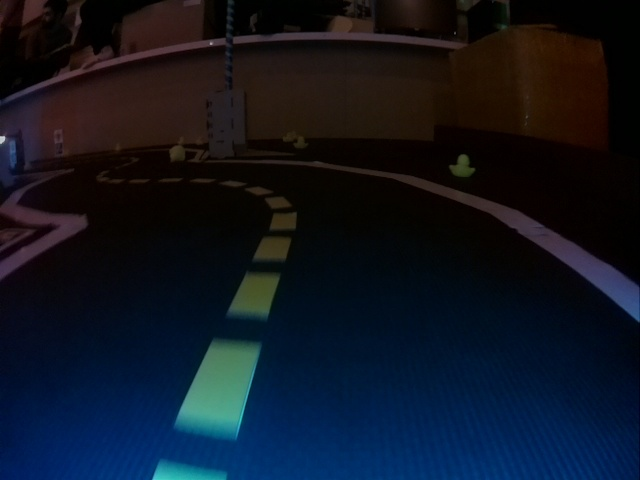Duckie: (451, 153, 475, 176), (171, 146, 184, 160), (294, 137, 304, 148)
